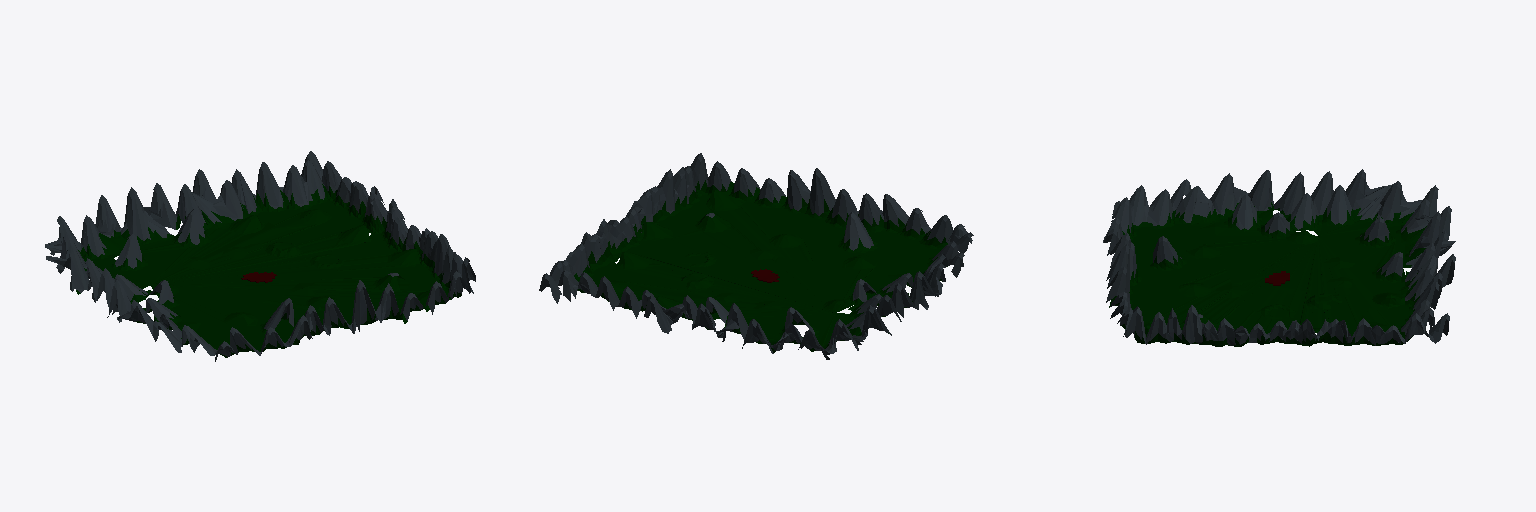
The model's file is terrain.obj.
3 renders of one model, left to right at view 1: azimuth 30°, elevation 25°; view 2: azimuth 150°, elevation 25°; view 3: azimuth 270°, elevation 25°, orthographic.
Visible parts, largest first — view 1: Plane_Plane.004; view 2: Plane_Plane.004; view 3: Plane_Plane.004.
Boxes of the visible parts, box(x1,y1,x2,y2) form: Plane_Plane.004: box(45, 151, 475, 361); Plane_Plane.004: box(539, 153, 973, 359); Plane_Plane.004: box(1103, 169, 1455, 346).
Bounding box in the file's own units: 19.9 × 3.18 × 19.55.